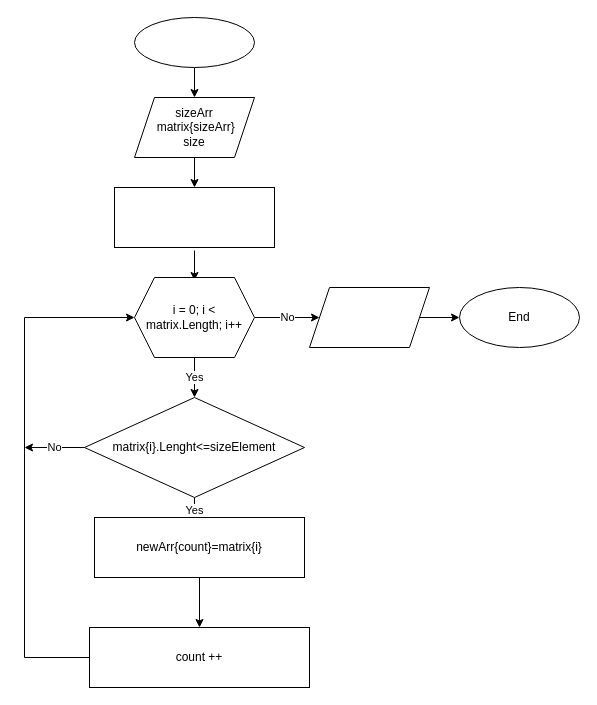
The diagram is 597 pixels wide and 705 high, and some of its shapes have lost their labels. Each missing label, with the centre of its shape:
count=0 sizeElement =3 newArray{matrix.Lenght}: (194,217)
newArr: (369,317)
Start: (194,42)
